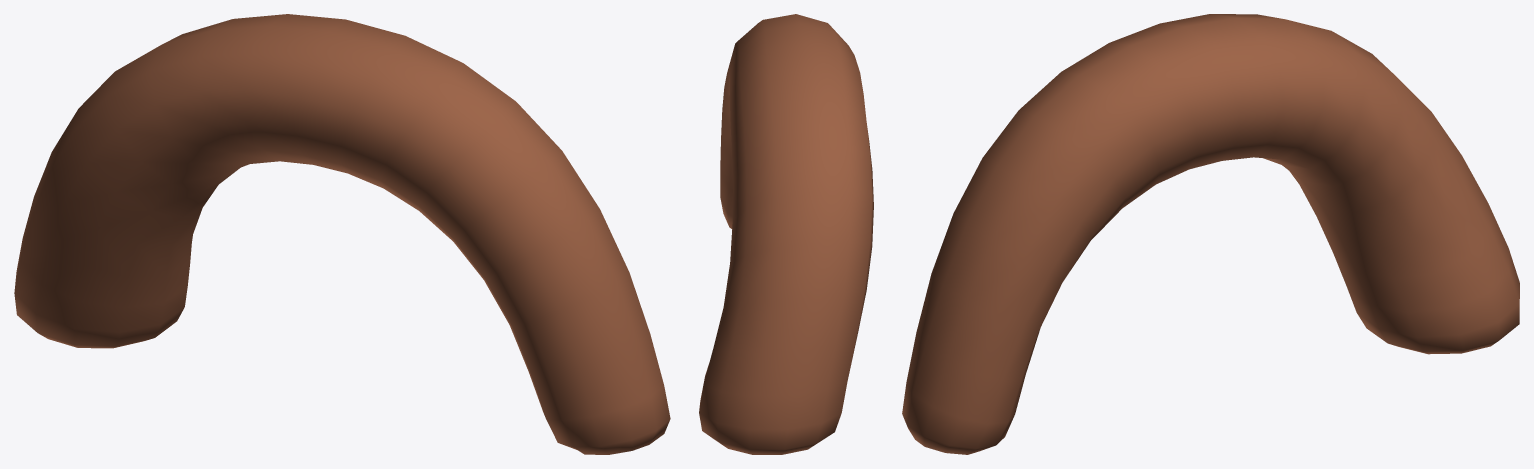
3 renders of one model, left to right at view 1: azimuth 30°, elevation 25°; view 2: azimuth 150°, elevation 25°; view 3: azimuth 270°, elevation 25°, orthographic. The views are drawn at different scales.
Parts seen in each view (by area): view 1: Root_01_LOD0; view 2: Root_01_LOD0; view 3: Root_01_LOD0.
Part boxes in pixels (x1,y1,x2,y2): Root_01_LOD0: [14, 14, 670, 454]; Root_01_LOD0: [699, 14, 873, 454]; Root_01_LOD0: [902, 14, 1519, 454].
Size of what is drawn, in the model's own units: 318 by 290 by 468.
